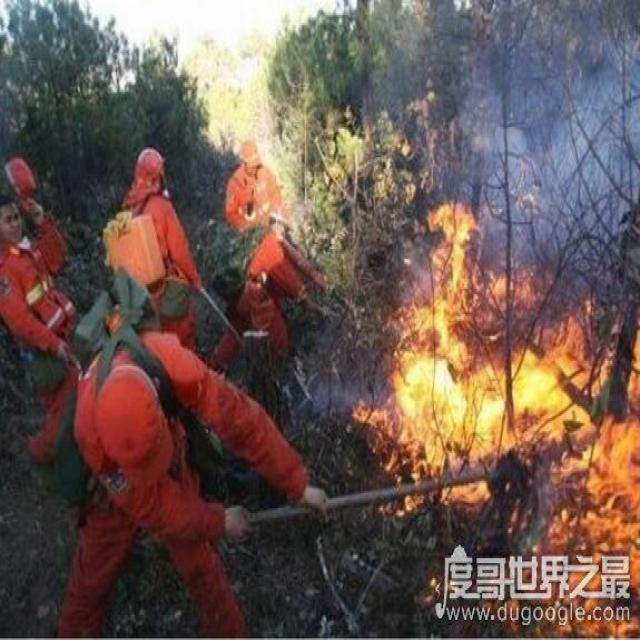fire: (359, 193, 636, 624)
other: (75, 335, 292, 629), (2, 152, 77, 409), (228, 134, 311, 355), (107, 166, 195, 330)
